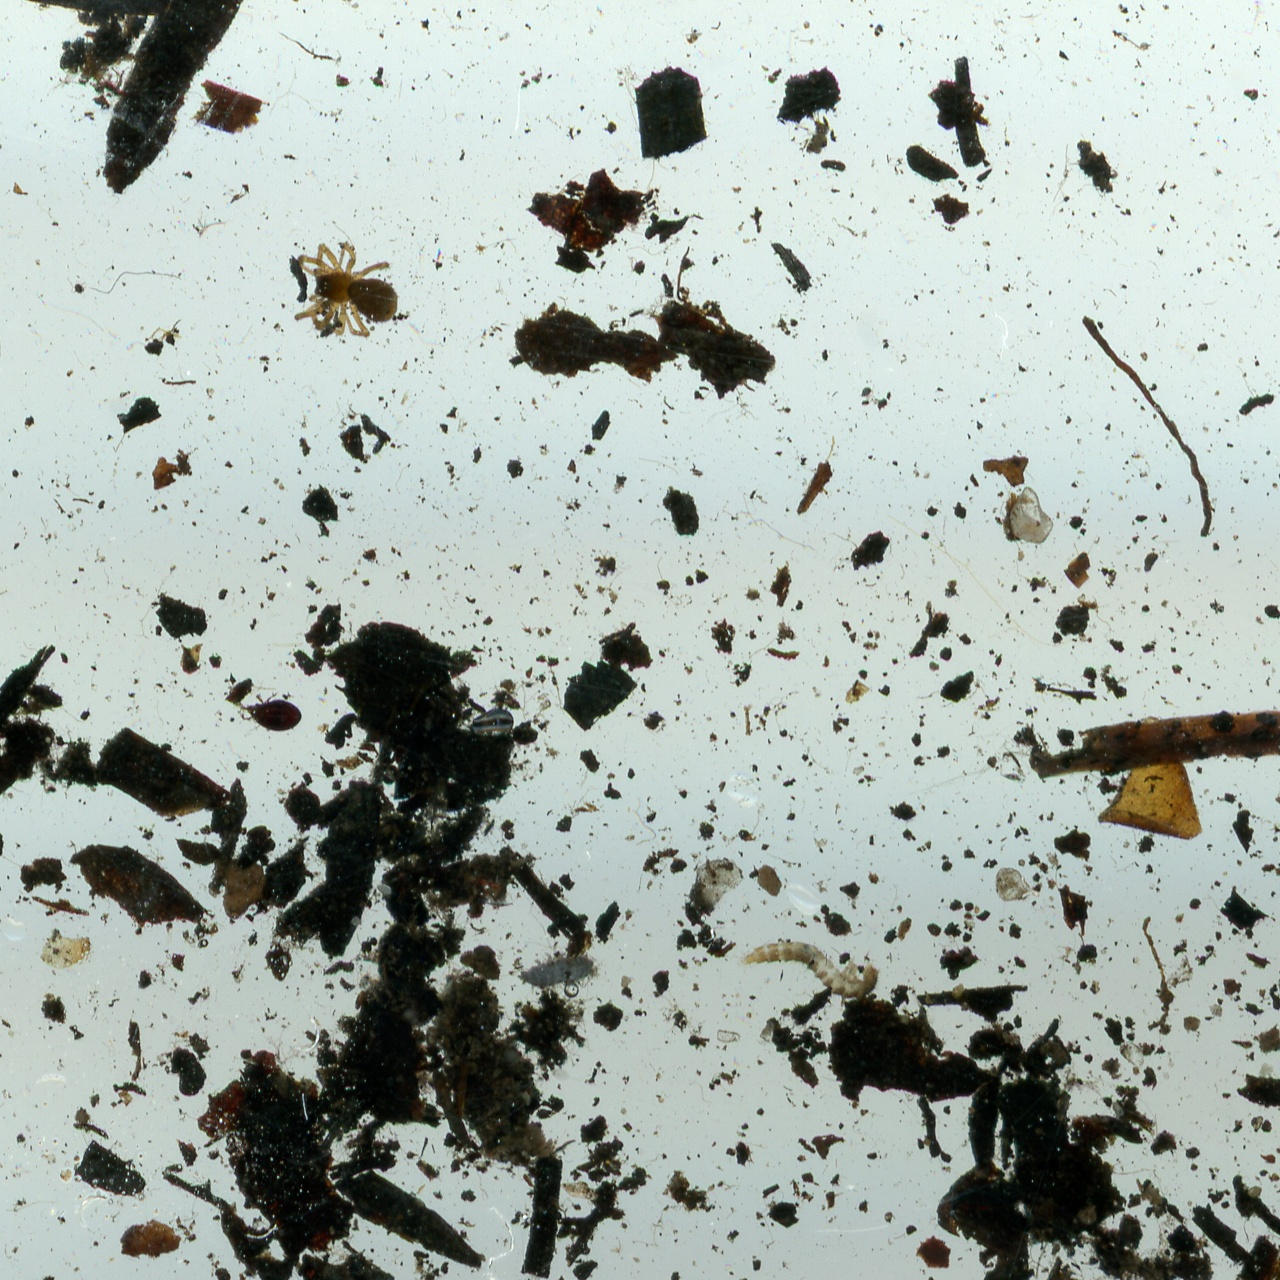arthropod: (736, 934, 881, 1005), (293, 243, 400, 338), (515, 948, 600, 996), (237, 689, 305, 735)
